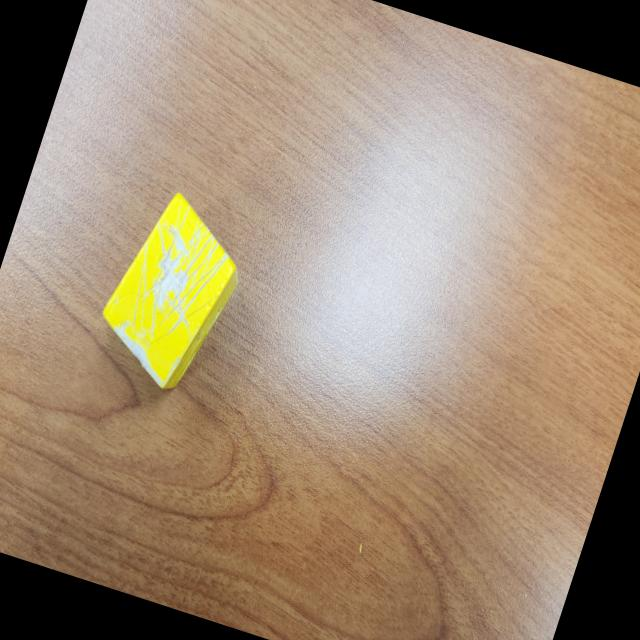broken: (86, 180, 260, 404)
